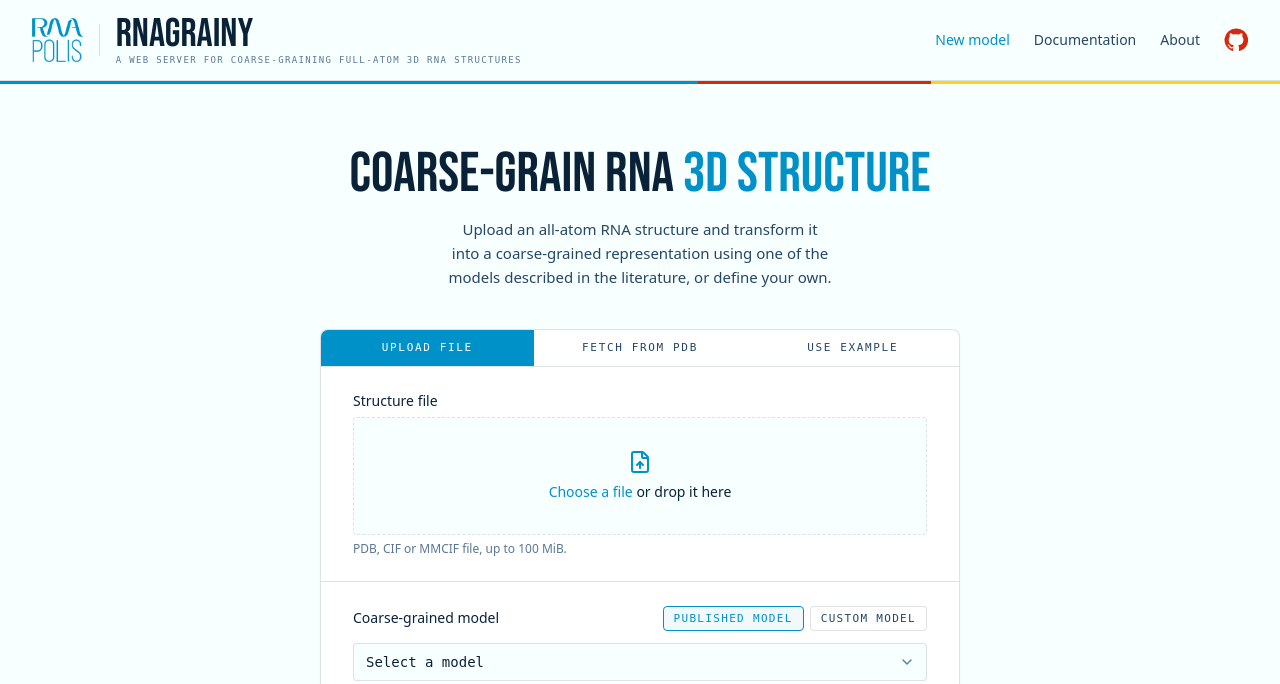
ModelCreator › applies the default model and submits its definition
The image size is (1280, 684).
Click the button "Custom model": (868, 618) [810,606,927,631]
(page scrolled)
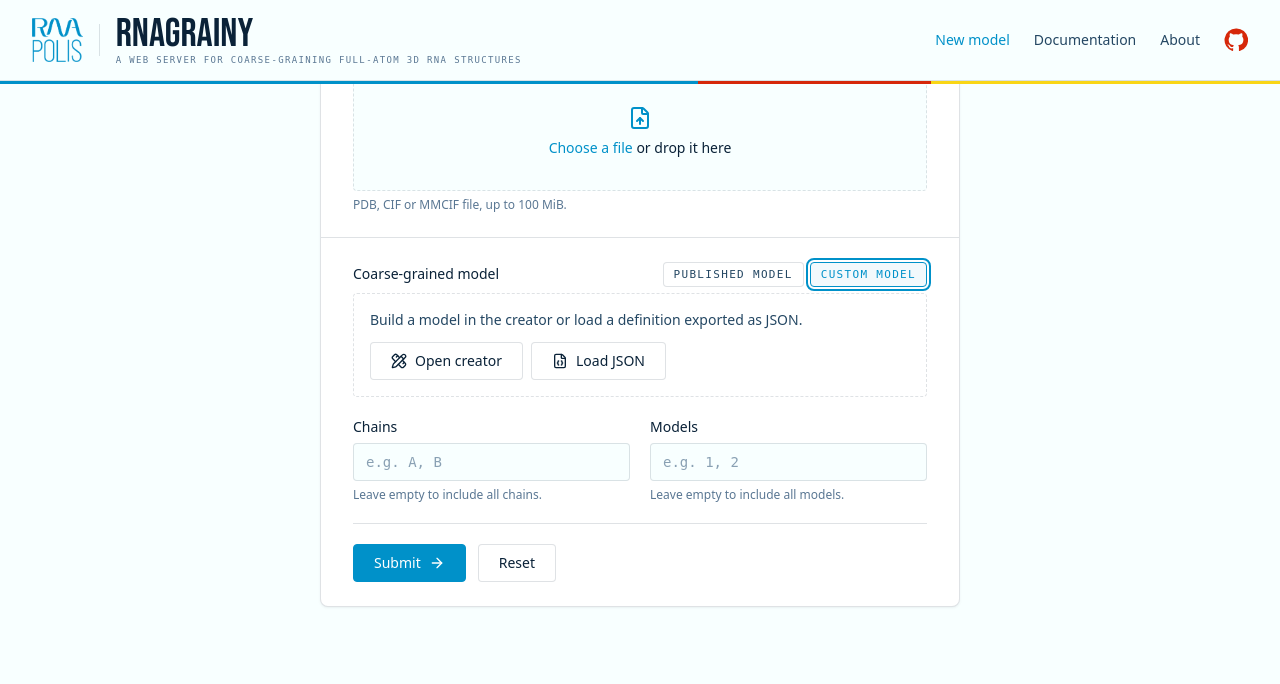
Click the button "Open creator": (446, 361) [370,342,523,380]
(page scrolled)
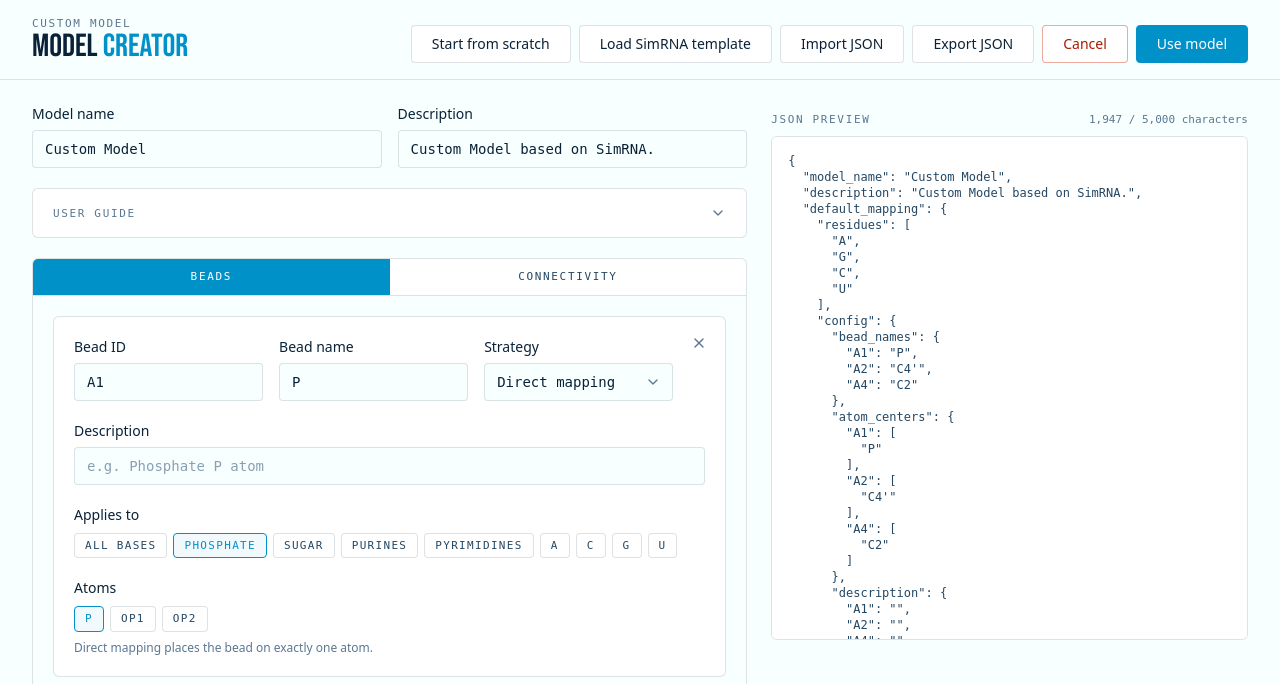
Click the button "Use model": (1192, 44) [1136,25,1248,63]
(page scrolled)
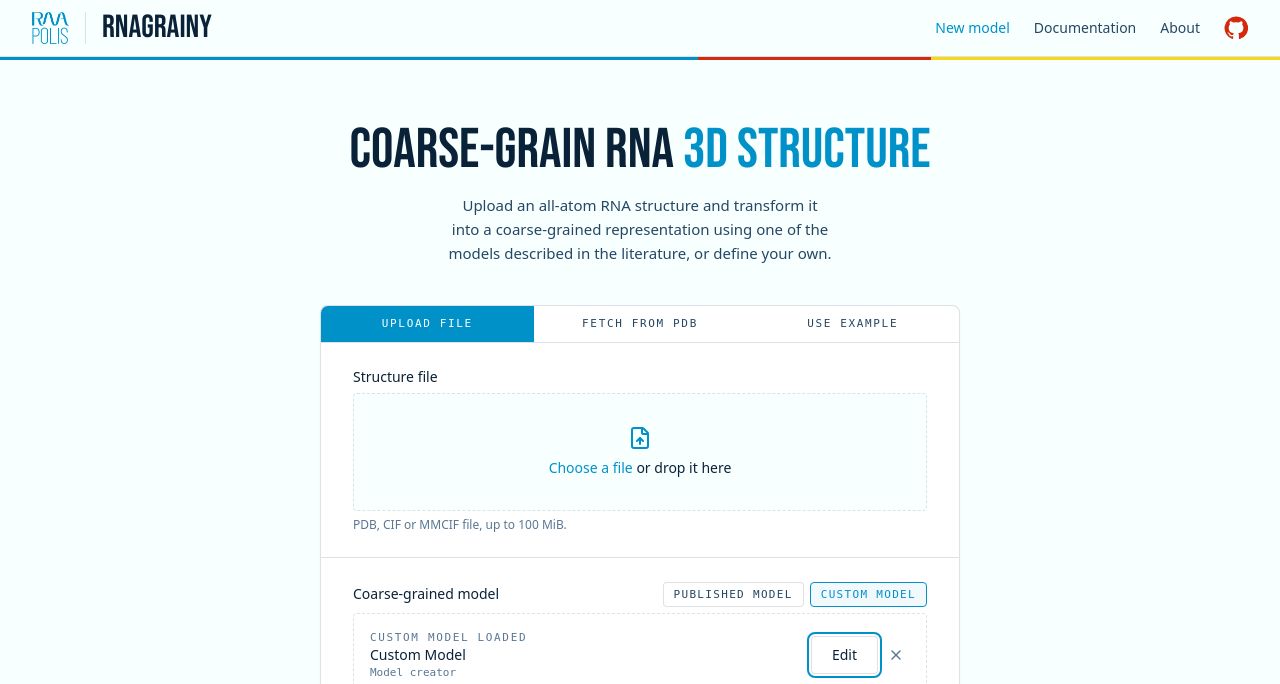
Result: the text "Model creator" is shown at [370,666,456,679]
Result: the text "Custom model loaded" is shown at [370,630,527,645]
Click the tab "Use example": (853, 324) [746,306,959,342]
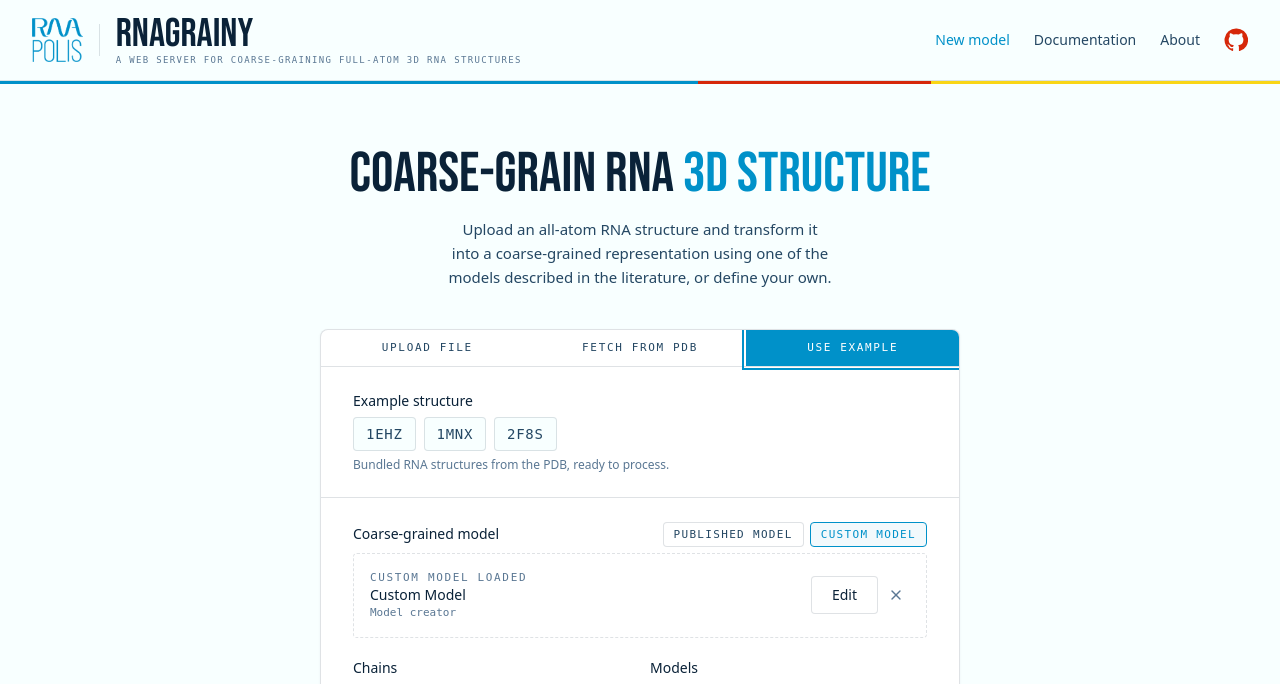
Click the radio button labelled "1EHZ": (384, 434) [353,417,416,451]
(page scrolled)
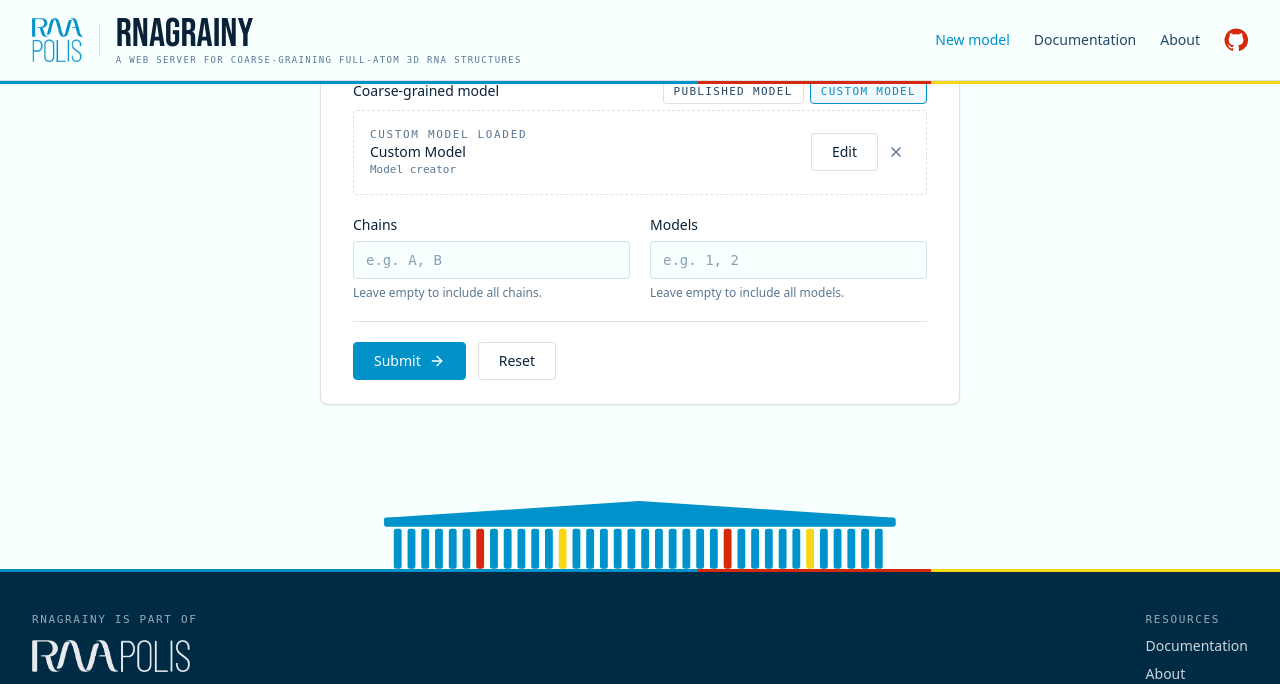
Click the button "Submit": (409, 361) [353,342,466,380]
(page scrolled)
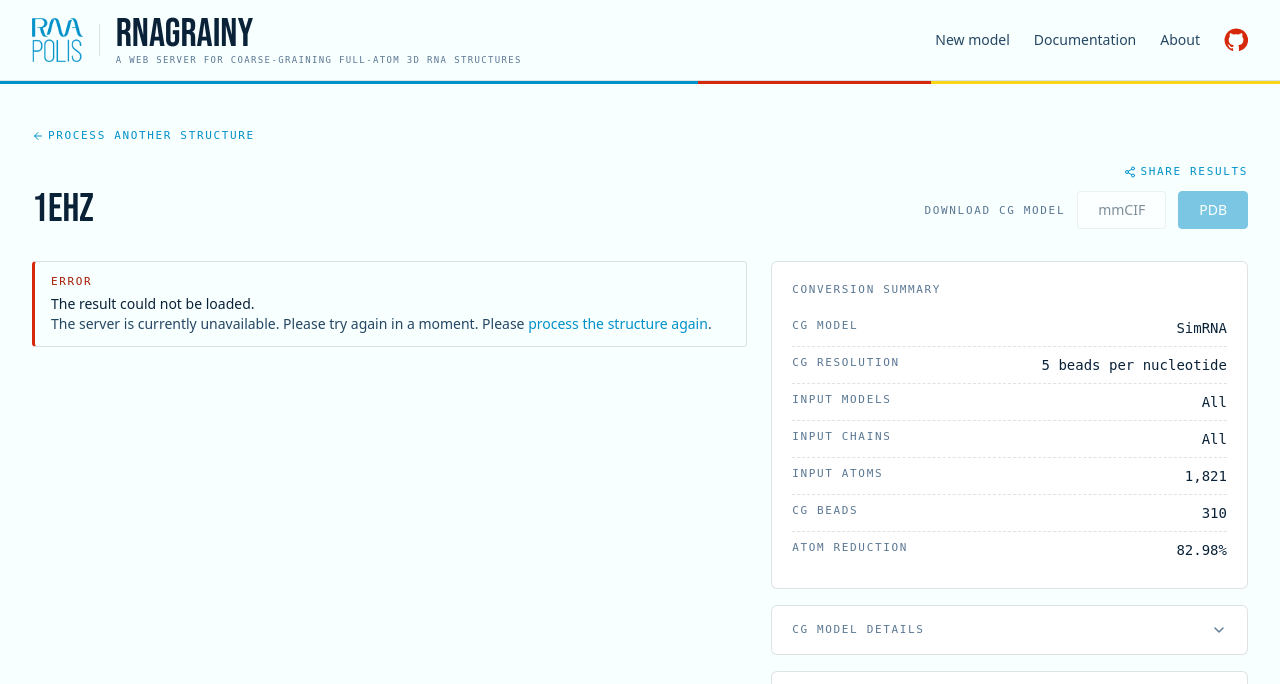
Result: the heading "Conversion summary" is shown at [792,283,941,296]
